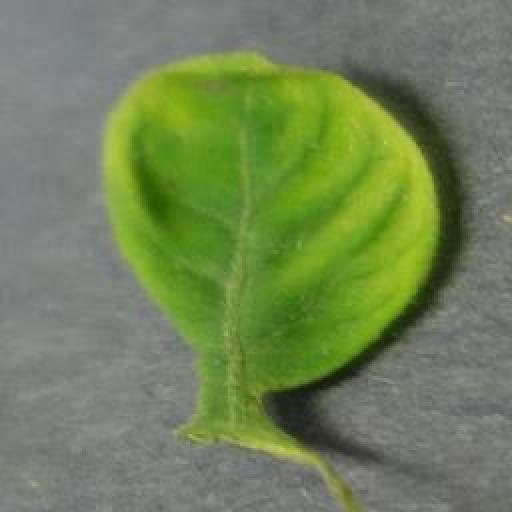Yellow Leaf Curl Virus: (101, 47, 444, 393)
